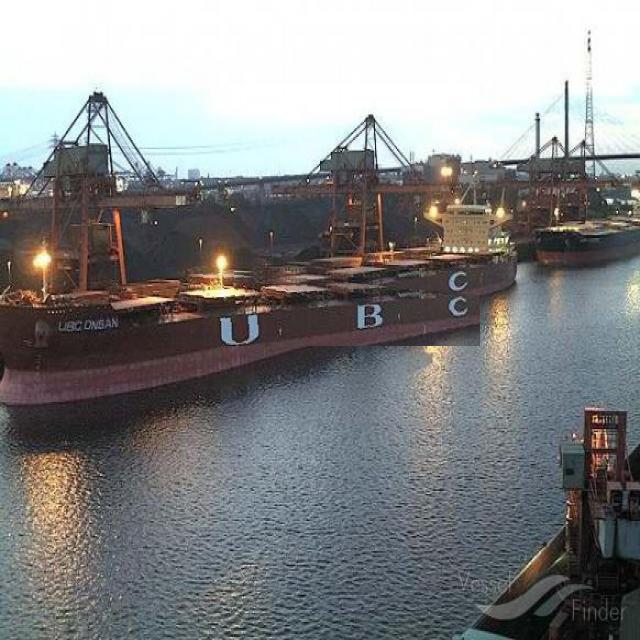OCR: (197, 268, 480, 346), (49, 314, 123, 340)
